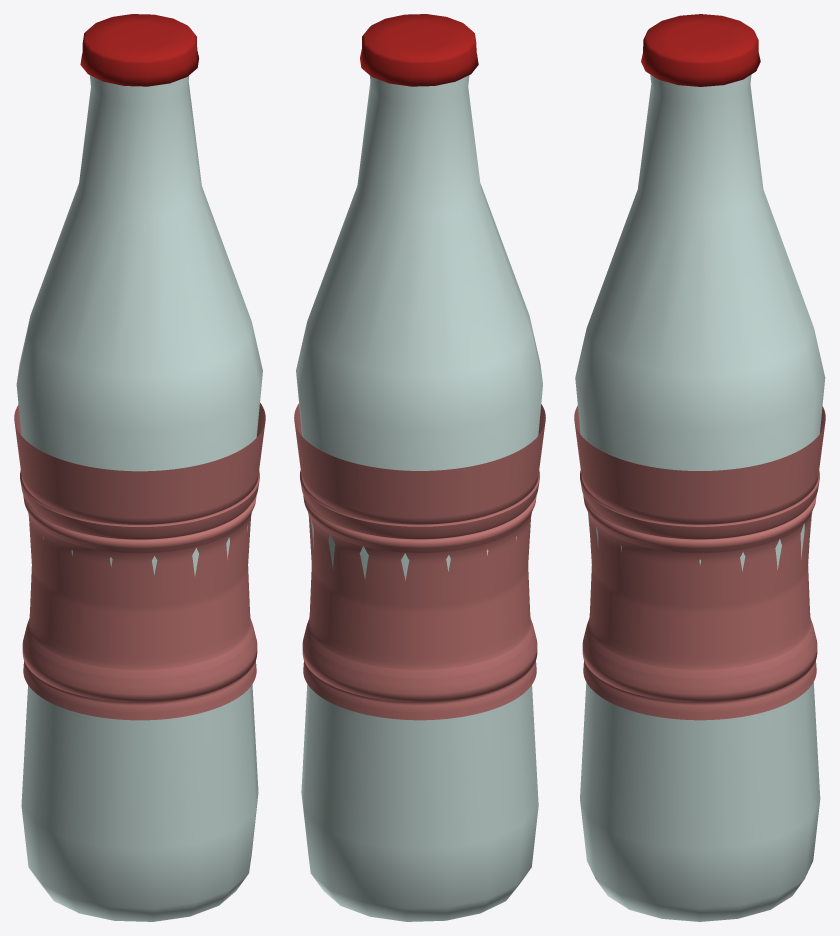
File: v2_contour_cola_minimal.glb
3 renders of one model, left to right at view 1: azimuth 30°, elevation 25°; view 2: azimuth 150°, elevation 25°; view 3: azimuth 270°, elevation 25°, orthographic.
Parts seen in each view (by area): view 1: Glass, Label_band, Cap; view 2: Glass, Label_band, Cap; view 3: Glass, Label_band, Cap.
Boxes of the visible parts, x1,y1,x2,y2 form: Glass: [16, 75, 262, 921]; Label_band: [14, 403, 265, 720]; Cap: [80, 14, 199, 86]; Glass: [296, 75, 542, 921]; Label_band: [294, 403, 545, 720]; Cap: [360, 14, 478, 86]; Glass: [575, 74, 825, 921]; Label_band: [574, 405, 825, 720]; Cap: [641, 14, 760, 86].
Bounding box in the file's own units: 0.0629 × 0.2339 × 0.0629.
